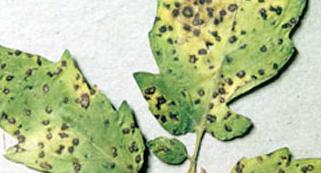Tomato leaf bacterial spot: (132, 0, 316, 146), (0, 40, 148, 173), (218, 144, 321, 173)
